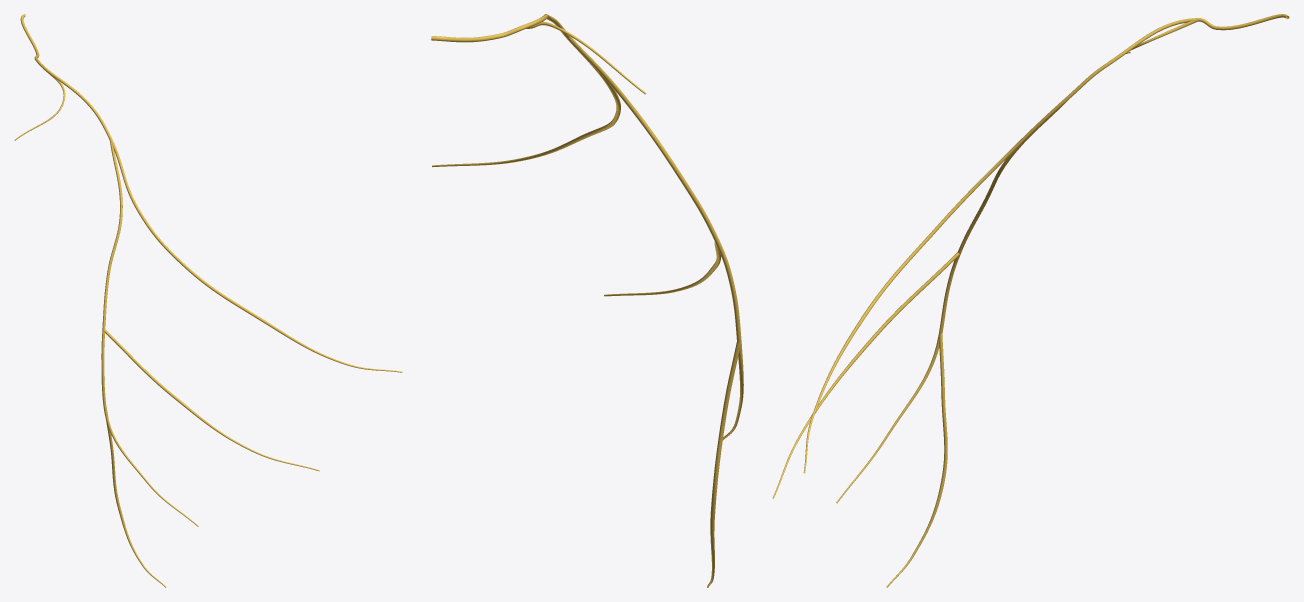
File: Lateral_pectoral_nerve_right.glb
3 views of the same model, side by side, from view 1: azimuth 30°, elevation 25°; view 2: azimuth 150°, elevation 25°; view 3: azimuth 270°, elevation 25° (orthographic). The views are drawn at different scales.
Visible parts, largest first — view 1: Lateral_pectoral_nerve.r_BezierCurve.516; view 2: Lateral_pectoral_nerve.r_BezierCurve.516; view 3: Lateral_pectoral_nerve.r_BezierCurve.516.
Part boxes in pixels (box(x1,y1,x2,y2)): Lateral_pectoral_nerve.r_BezierCurve.516: box(14, 14, 402, 587); Lateral_pectoral_nerve.r_BezierCurve.516: box(431, 14, 743, 587); Lateral_pectoral_nerve.r_BezierCurve.516: box(772, 14, 1289, 587).
Bounding box in the file's own units: 0.1038 × 0.173 × 0.1394.
